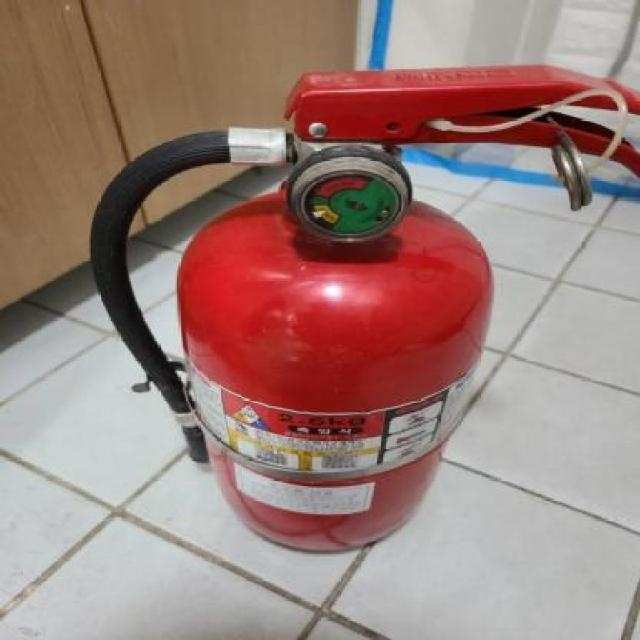fire extinguisher: (87, 63, 640, 552)
